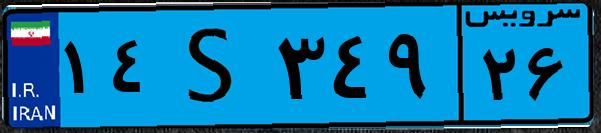1: (57, 26, 110, 100)
2: (475, 38, 525, 113)
3: (270, 28, 330, 110)
4: (330, 28, 385, 110), (110, 28, 158, 98)
6: (525, 38, 570, 115)
9: (385, 28, 445, 110)
S: (158, 12, 270, 120)
